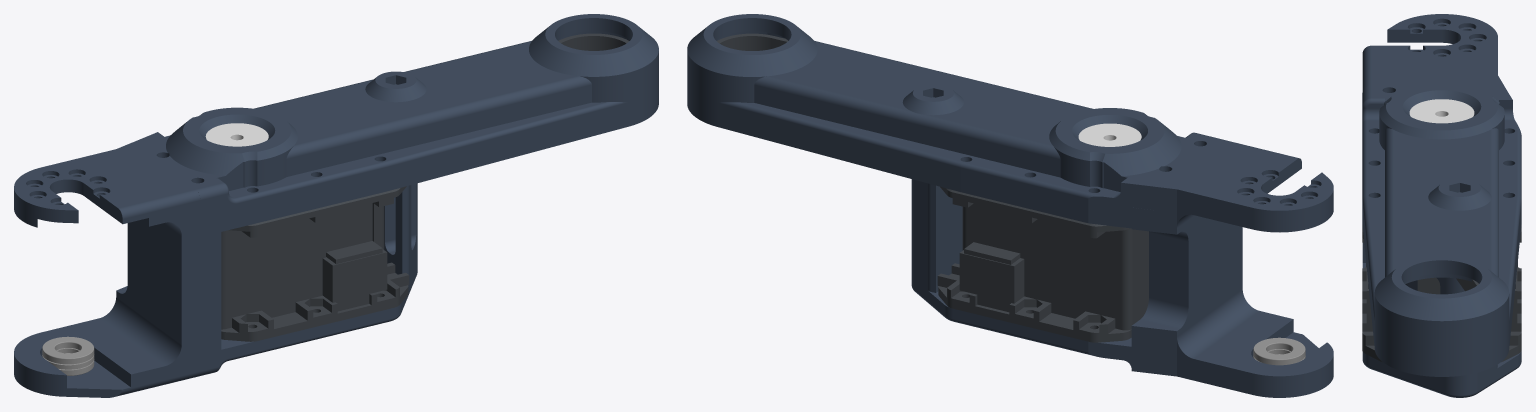
The model's file is elbow.dae.
3 views of the same model, side by side, from view 1: azimuth 30°, elevation 25°; view 2: azimuth 150°, elevation 25°; view 3: azimuth 270°, elevation 25° (orthographic). The views are drawn at different scales.
Parts seen in each view (by area): view 1: Part 1 (×4), Dynamixel_motor_CAD v15, 7806K58_Thrust Ball Bearing; view 2: Part 1 (×4), Dynamixel_motor_CAD v15, 7806K58_Thrust Ball Bearing; view 3: Part 1 (×4), Dynamixel_motor_CAD v15.
Part boxes in pixels (box(x1,y1,x2,y2)): Part 1 (×4): box(14, 14, 658, 397); Dynamixel_motor_CAD v15: box(221, 186, 409, 341); 7806K58_Thrust Ball Bearing: box(42, 336, 94, 375); Part 1 (×4): box(687, 14, 1333, 397); Dynamixel_motor_CAD v15: box(937, 186, 1148, 342); 7806K58_Thrust Ball Bearing: box(1253, 337, 1305, 365); Part 1 (×4): box(1362, 14, 1521, 397); Dynamixel_motor_CAD v15: box(1362, 225, 1521, 362).
Size of the model in its own units: 0.1675 by 0.0356 by 0.0537.
